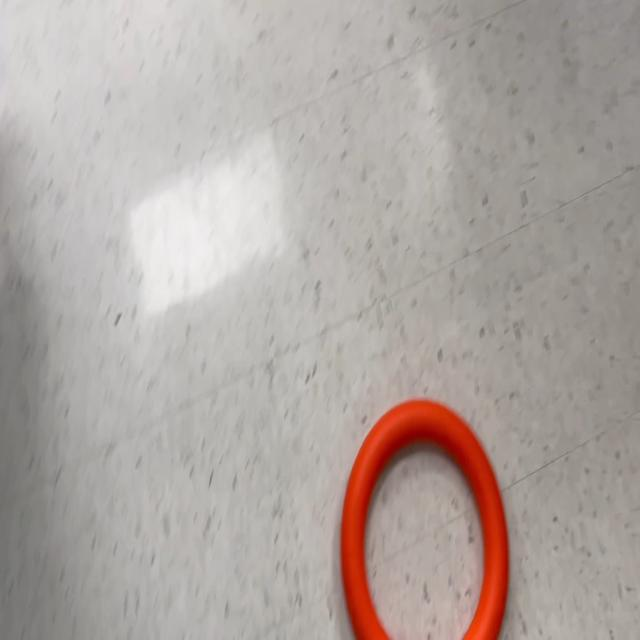note: (344, 402, 509, 640)
